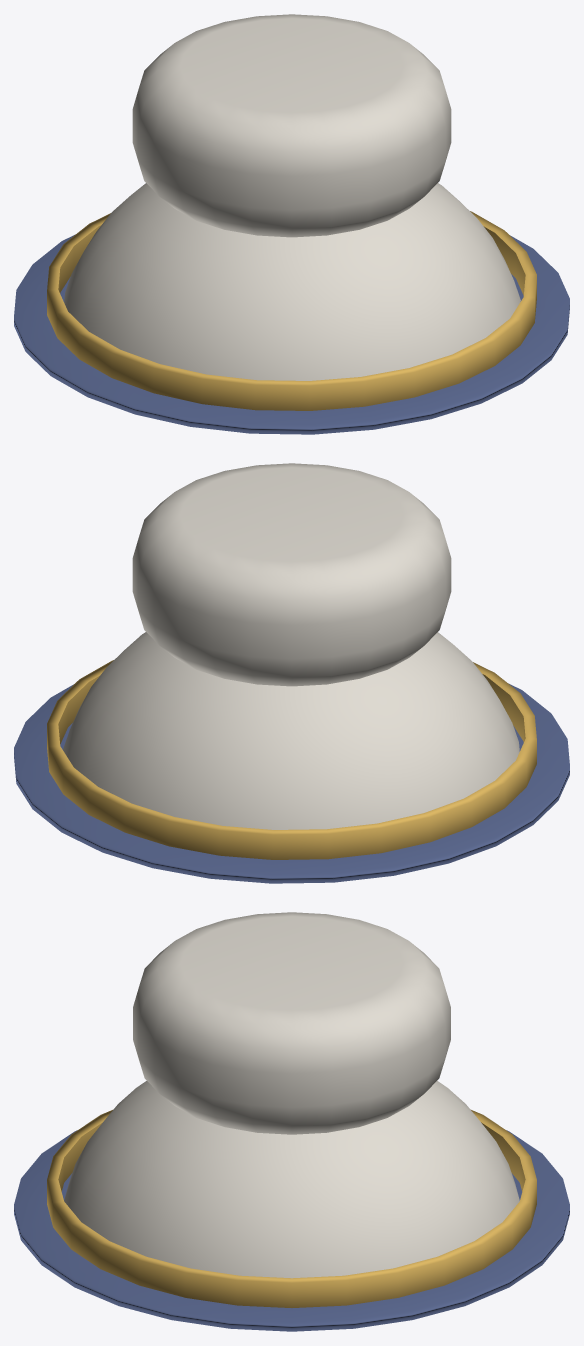
Rendered from captains_hat.glb.
3 views of the same model, one above another, from view 1: azimuth 30°, elevation 25°; view 2: azimuth 150°, elevation 25°; view 3: azimuth 270°, elevation 25° (orthographic).
Parts seen in each view (by area): view 1: captains_hat_Head; view 2: captains_hat_Head; view 3: captains_hat_Head.
Boxes of the visible parts, x1,y1,x2,y2 form: captains_hat_Head: (14, 14, 569, 434); captains_hat_Head: (14, 463, 569, 883); captains_hat_Head: (14, 912, 569, 1331).
Bounding box in the file's own units: 0.84 × 0.418 × 0.84.
